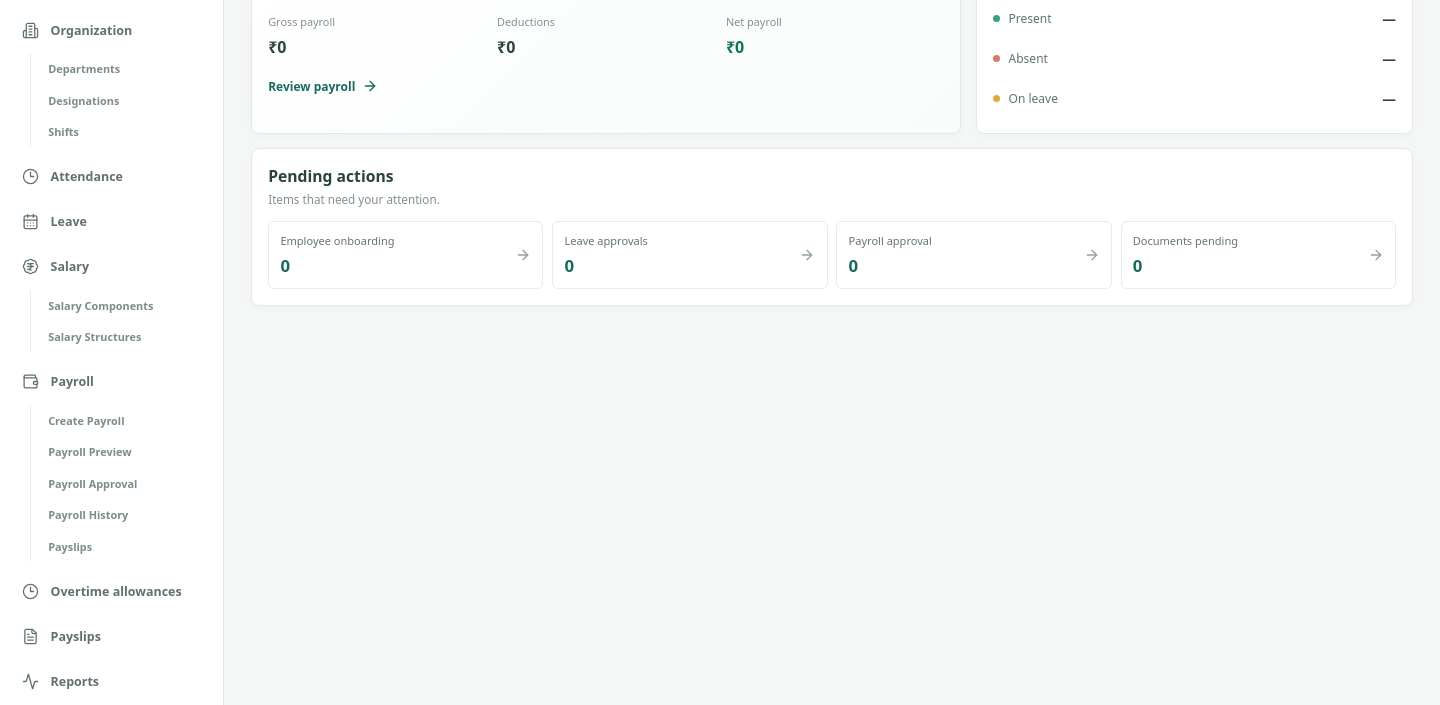
Test: PayrollPage › reloads the saved payroll run after a duplicate-run conflict
The width and height of the screenshot is (1440, 705).
(page scrolled)
Click the button "Payroll" at (58, 382), box [12,361,104,403]
(page scrolled)
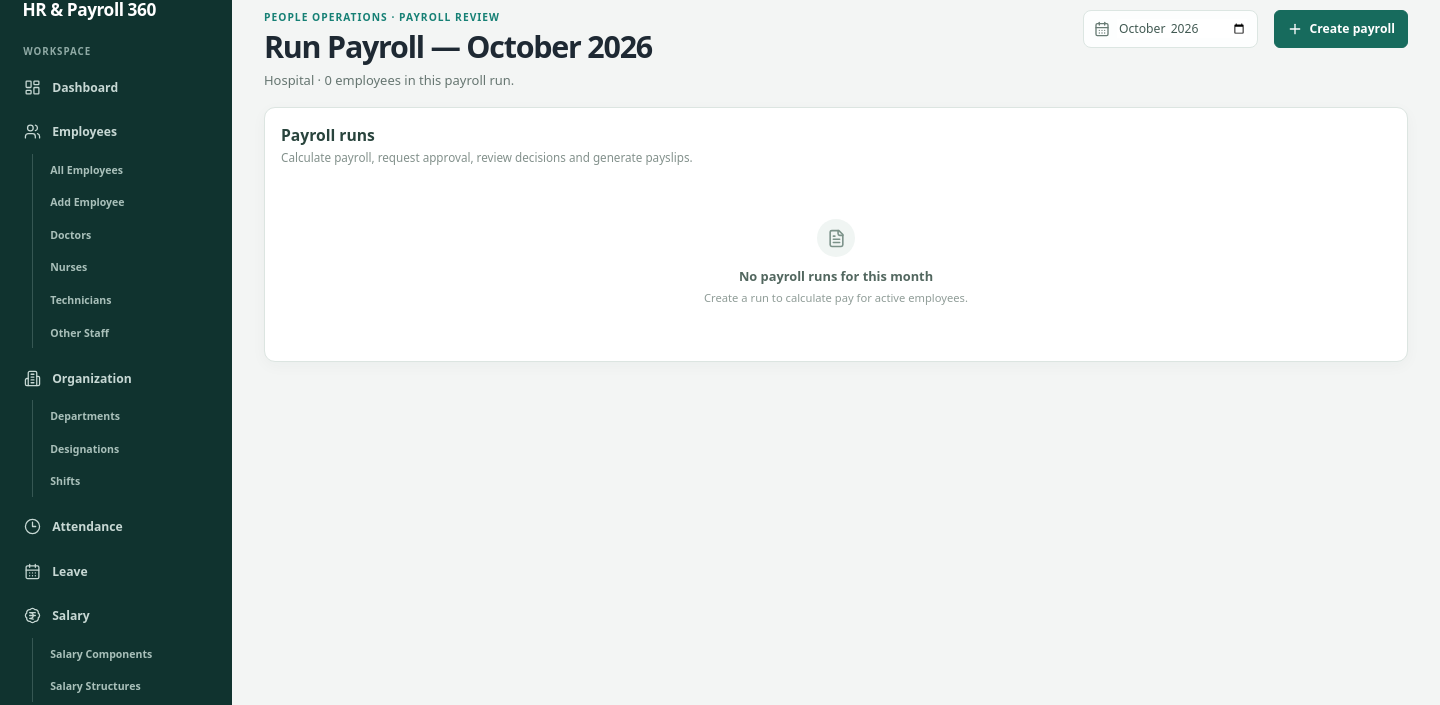
Click the button "Create payroll" at (1341, 29), box [1274,10,1408,48]
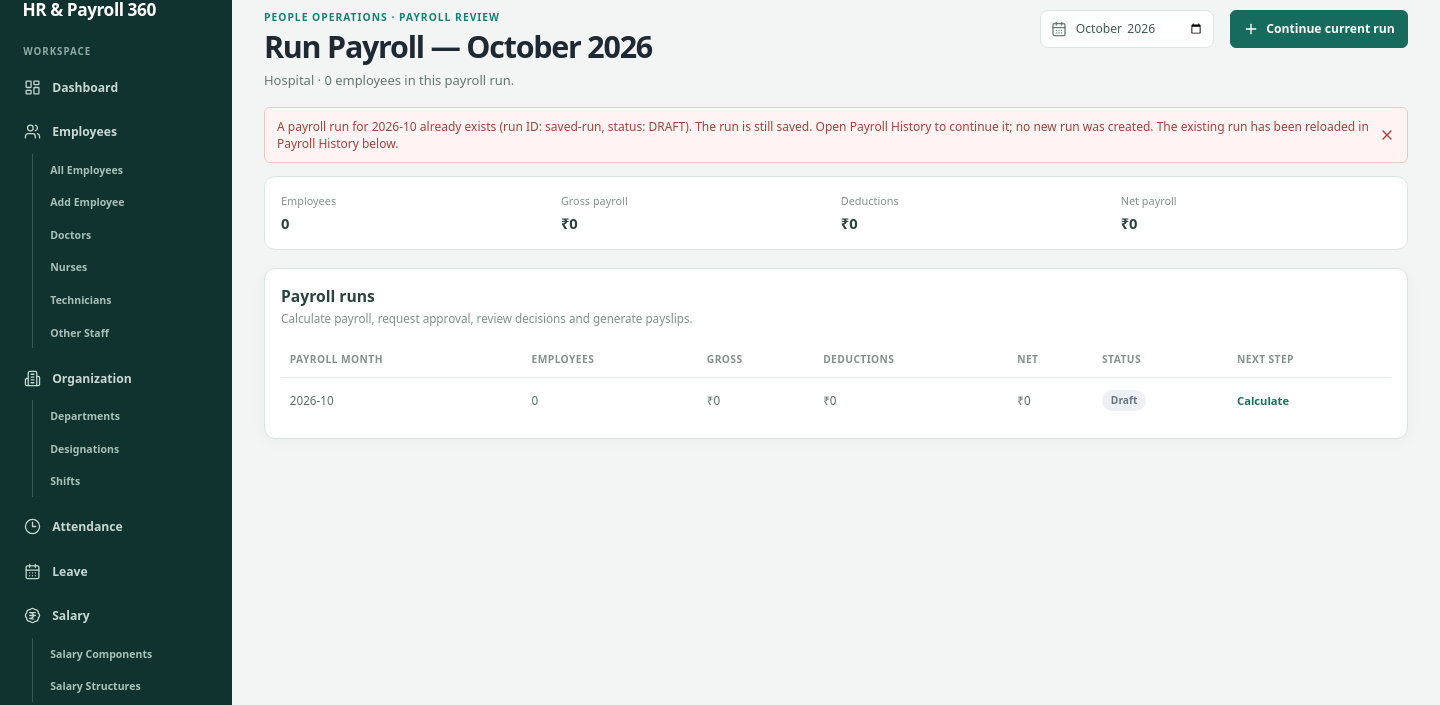
Now the button "Calculate" is shown, box [1237,390,1289,411]
Now the message shows "The existing run has been reloaded in Payroll History below.", box [277,118,1369,152]
